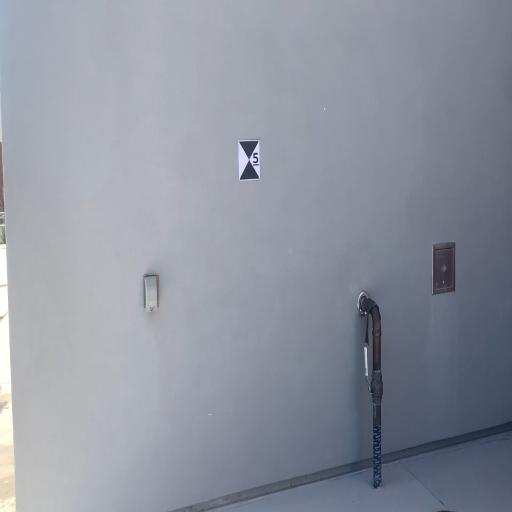target5: (238, 139, 261, 179)
